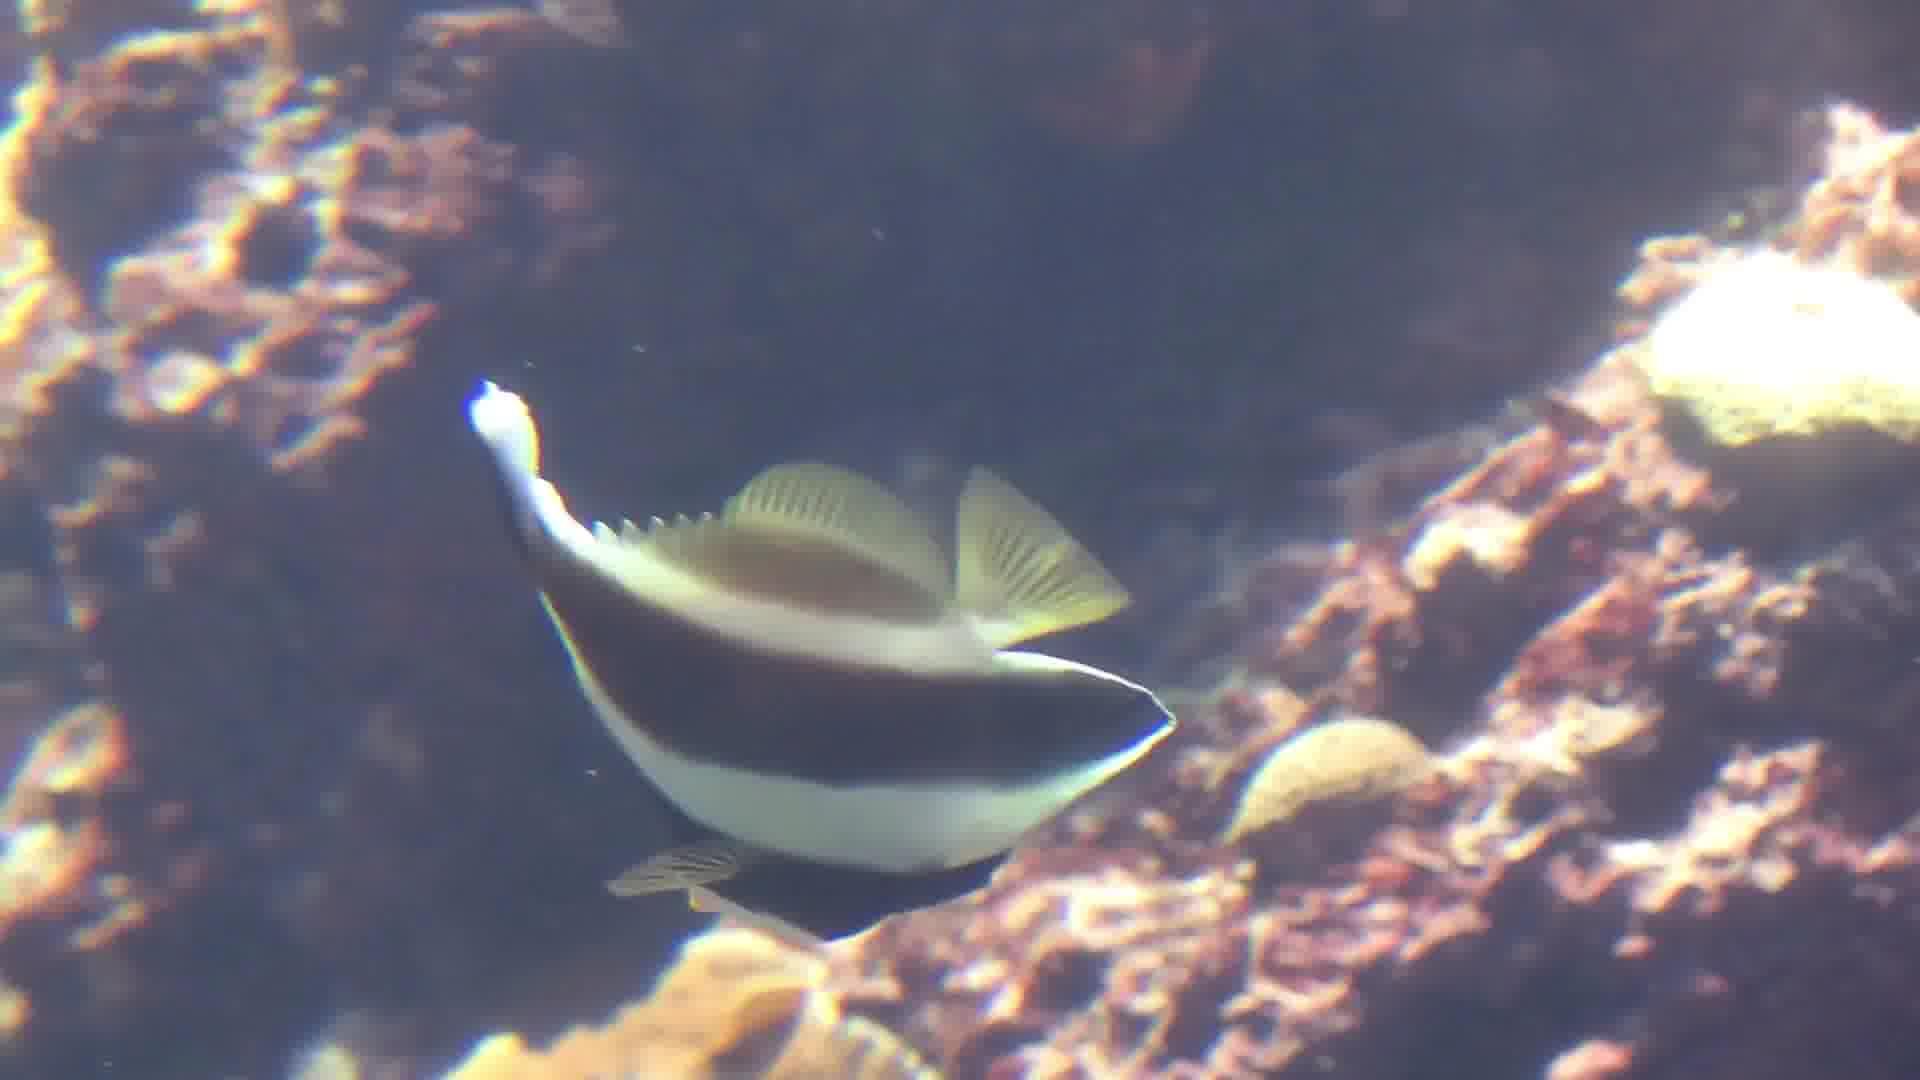Heniochus chrysostomus: (495, 203, 1178, 1040)
